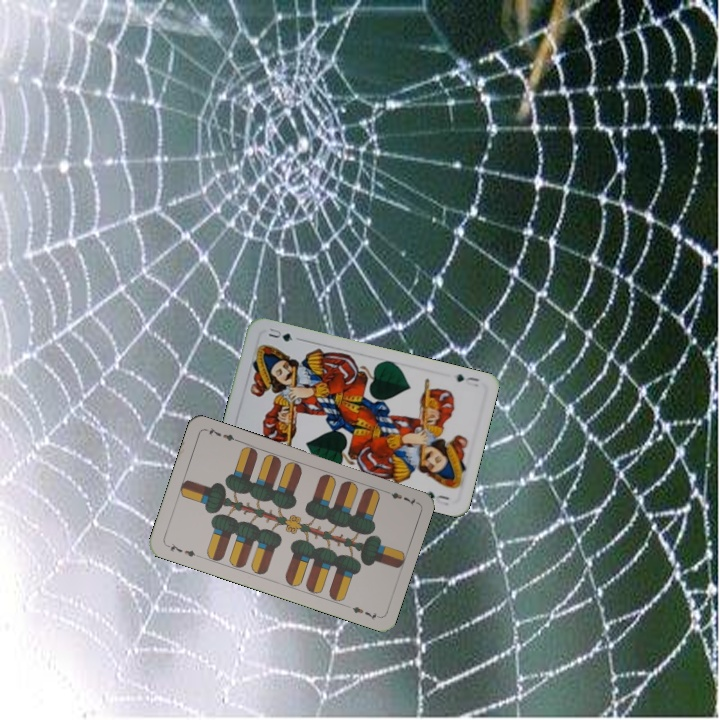E7: (380, 486, 419, 508), (163, 539, 202, 560)
GU: (452, 370, 482, 389)
